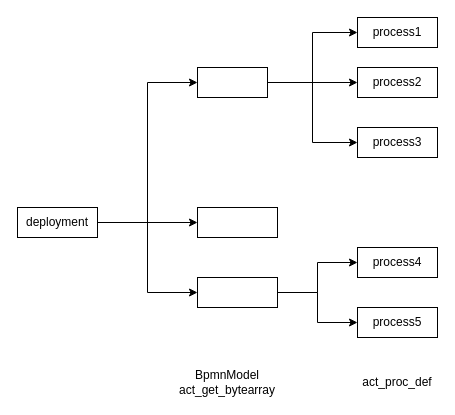
The diagram is 455 pixels wide and 415 high, and some of its shapes have lost their labels. Here are the shapes that lost their labels. From the top down, the centre of each, then its label:
At [232,82]: "resource1".
At [237,222]: "resource2".
At [237,292]: "resource3".
